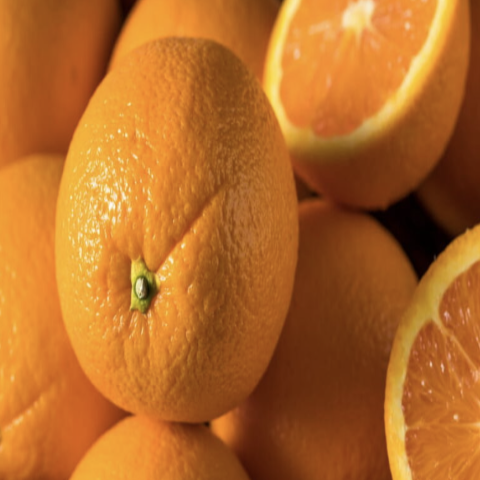orange: (25, 8, 310, 443)
